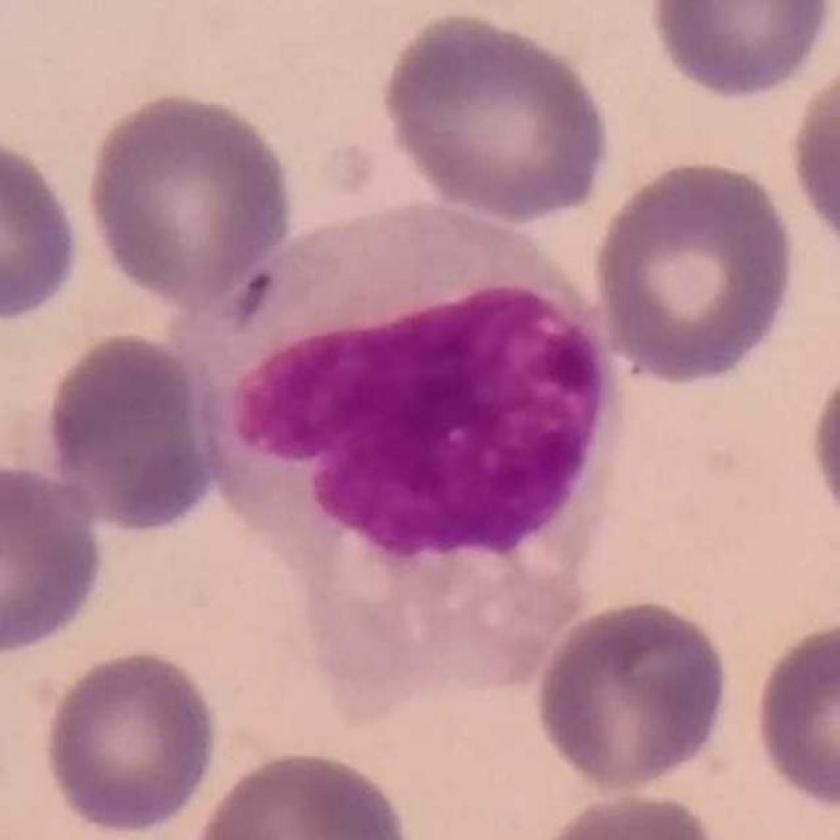monocyte: (184, 194, 621, 710)
